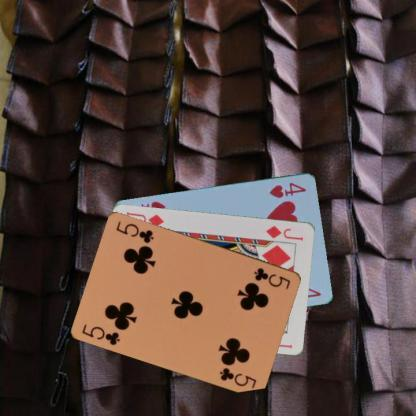4h: (267, 180, 307, 199)
5c: (80, 320, 122, 346), (251, 264, 292, 290)
Jd: (264, 223, 304, 242)
